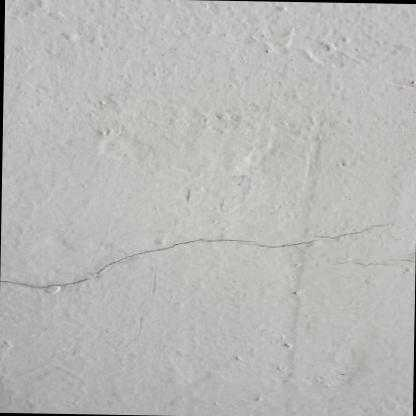crack: (0, 218, 409, 291)
